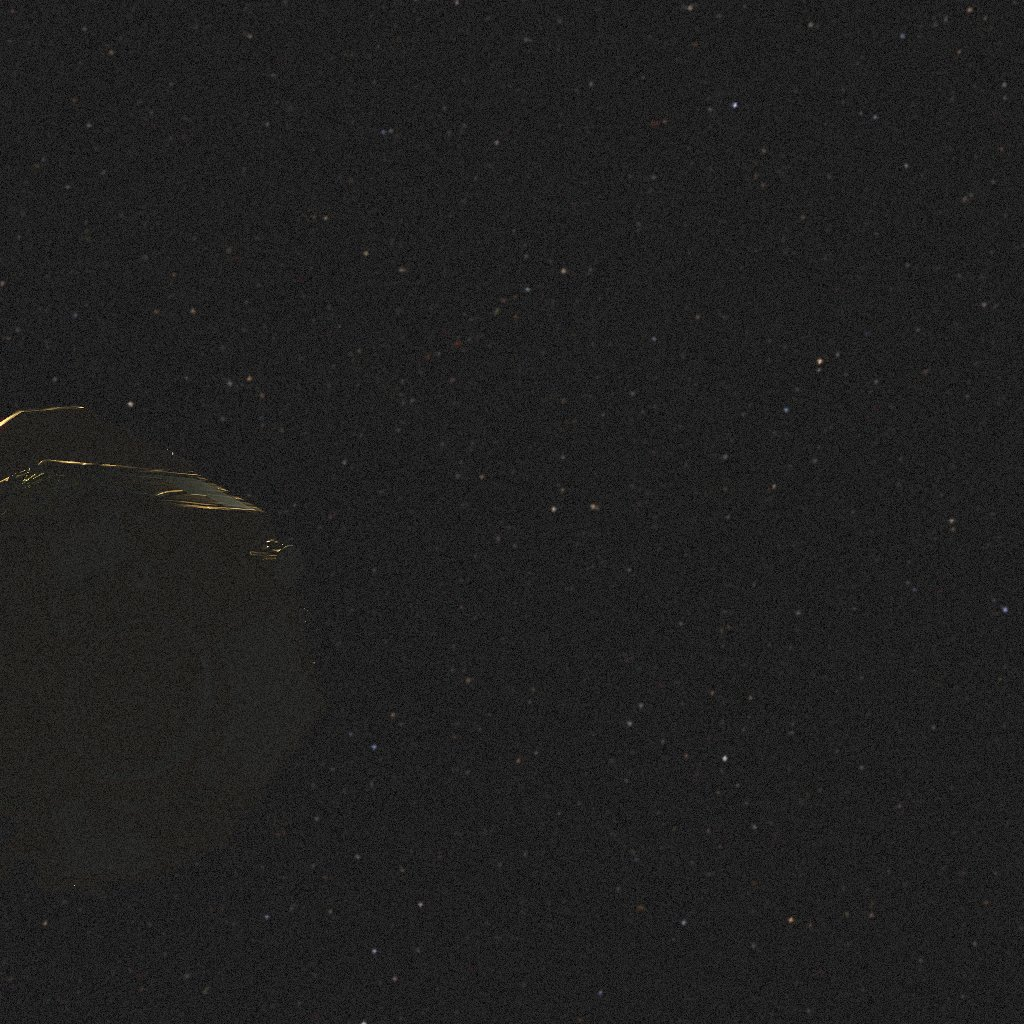lisa_pathfinder: (5, 397, 328, 941)
